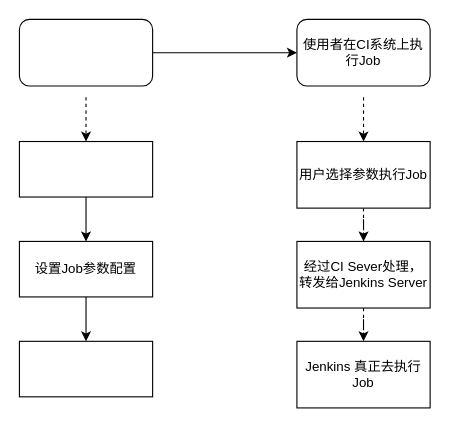
This 450x427 diagram has some shape labels left out. The shapes that lost their labels are listed below. From the top down, each one's centre as x and y in pixels, then its label:
At (x=85, y=52): "管理员在原Jenkins上创建job".
At (x=85, y=168): "创建Job".
At (x=85, y=368): "Job创建完成".
